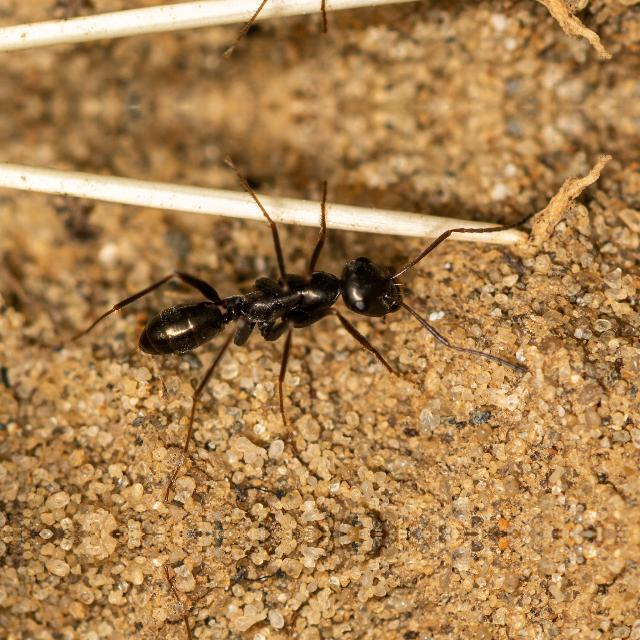Cataglyphis: (108, 224, 454, 378)
